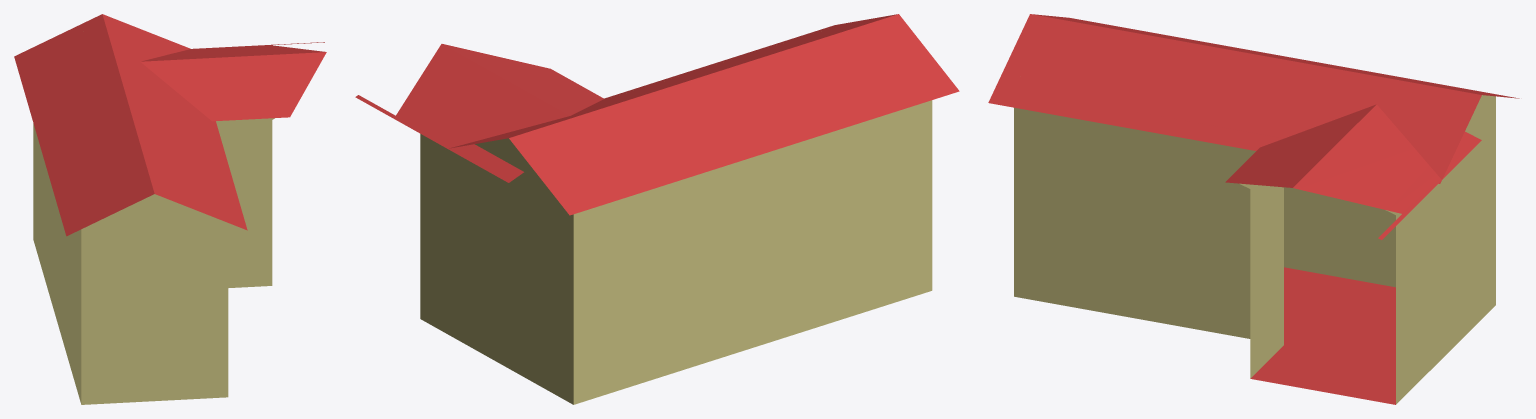
The picture shows the model from 3 angles, left to right: view 1: azimuth 30°, elevation 25°; view 2: azimuth 150°, elevation 25°; view 3: azimuth 270°, elevation 25°; orthographic projection. The views are drawn at different scales.
Size of the model in its own units: 26.51 by 27.11 by 13.76.
